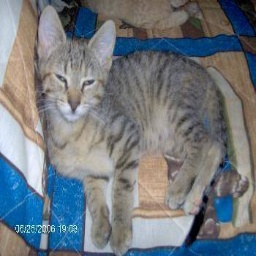cat: (34, 6, 238, 256)
